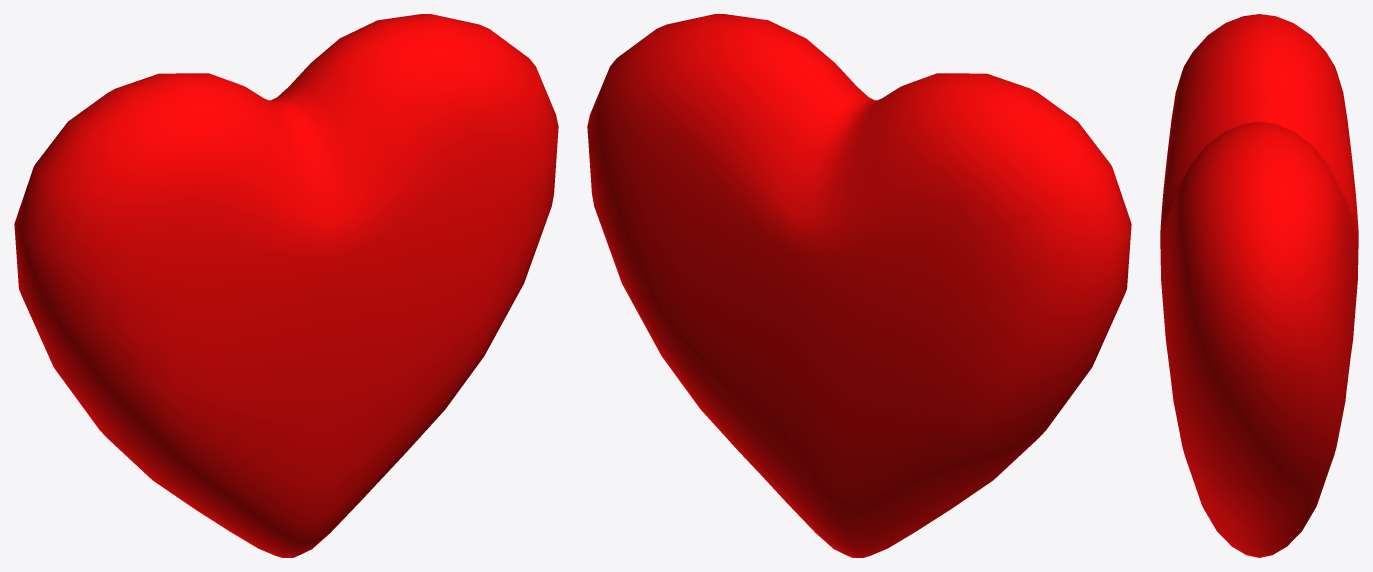
Rendered from heart.glb.
3 views of the same model, side by side, from view 1: azimuth 30°, elevation 25°; view 2: azimuth 150°, elevation 25°; view 3: azimuth 270°, elevation 25° (orthographic). The views are drawn at different scales.
Visible parts, largest first — view 1: heart; view 2: heart; view 3: heart.
Boxes of the visible parts, bbox=[...] form: heart: bbox=[14, 14, 558, 557]; heart: bbox=[587, 14, 1131, 557]; heart: bbox=[1160, 14, 1358, 557].
Bounding box in the file's own units: 1.03 × 0.9425 × 0.3578.
Materials: 1 (1 with a texture image).
